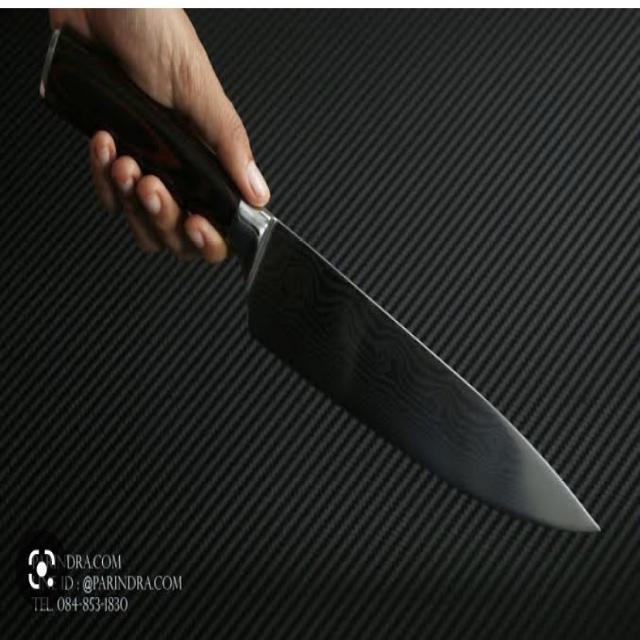Knife: (38, 23, 606, 537)
